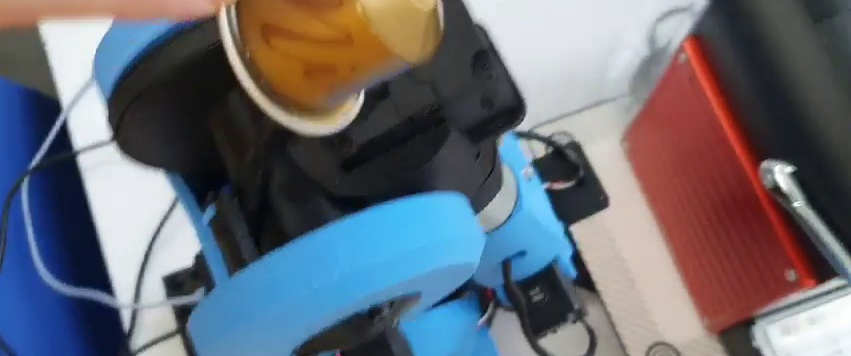capsule_9: (215, 1, 449, 148)
